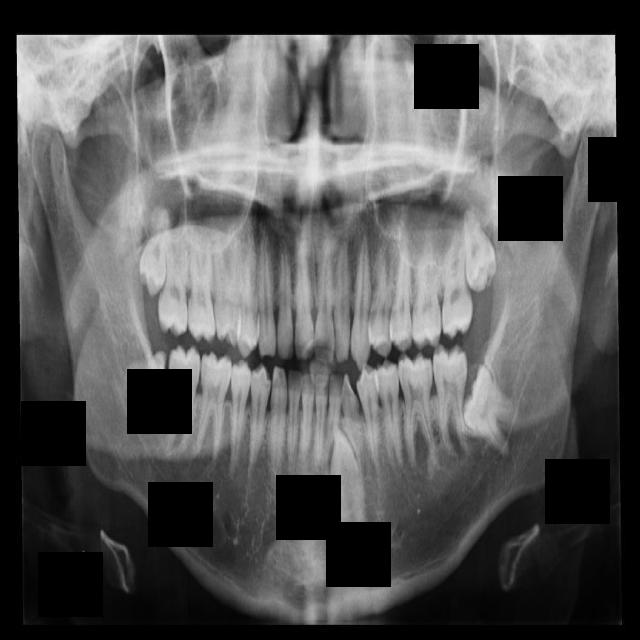3M ESPE Implant: (136, 206, 175, 297)
73: (588, 582, 590, 590)
BioHorizons Implant: (442, 228, 472, 338)
BioLife Implant: (460, 209, 499, 296)
Biomet 3i Implant: (448, 359, 536, 453)
Blue Sky Bio Implant: (433, 344, 472, 454)
Caries: (157, 220, 193, 337)
Implant: (164, 344, 201, 456)
Keystone Dental Implant: (117, 349, 175, 426)
